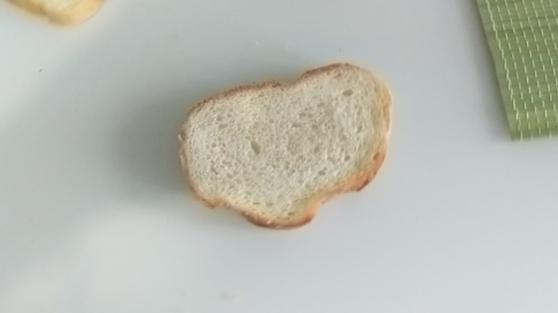white_bread: (179, 63, 394, 228)
